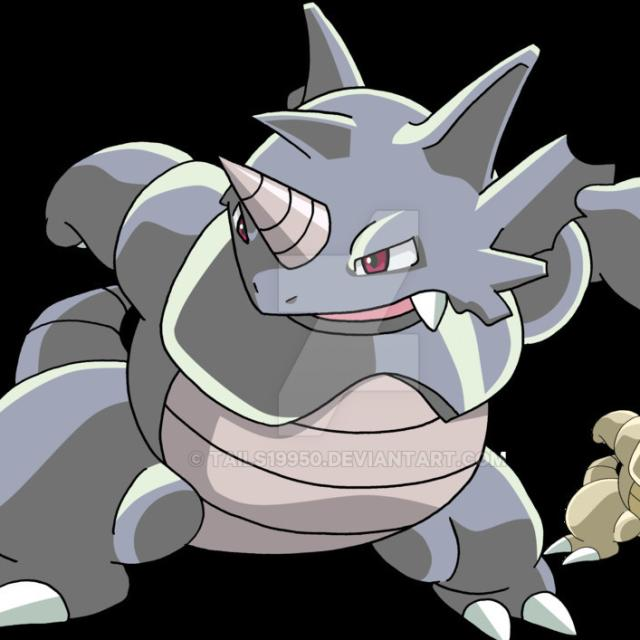Rhydon: (107, 83, 564, 564)
